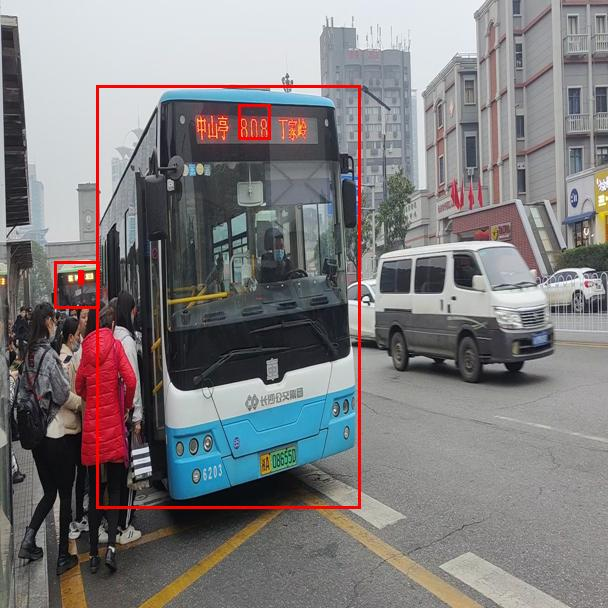bus: (96, 85, 360, 508), (54, 261, 99, 308)
screen: (238, 104, 270, 139), (78, 270, 83, 284)
